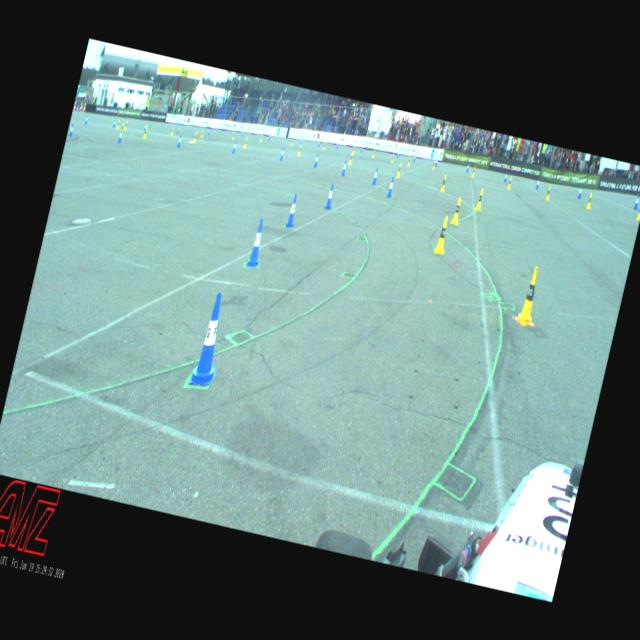blue_cone: (189, 290, 233, 388), (245, 218, 268, 268), (284, 192, 300, 228), (324, 182, 336, 210), (386, 175, 396, 198), (340, 160, 348, 176), (312, 152, 320, 168), (372, 167, 379, 185), (633, 193, 640, 210), (232, 140, 238, 154), (118, 129, 124, 143), (176, 134, 182, 148), (577, 185, 583, 198), (279, 147, 285, 160), (68, 124, 74, 136), (535, 178, 540, 190), (503, 172, 508, 182), (84, 114, 88, 125), (176, 125, 180, 134), (466, 163, 470, 172), (112, 119, 116, 128), (412, 153, 416, 162), (143, 123, 147, 131), (396, 150, 400, 158), (434, 158, 438, 166), (336, 141, 339, 149)
large_orange_cone: (79, 100, 83, 112), (82, 101, 86, 112), (72, 100, 76, 110), (76, 103, 78, 112)
yellow_cone: (514, 264, 546, 327), (433, 215, 451, 254), (450, 197, 463, 224), (474, 188, 485, 210), (584, 192, 594, 210), (440, 174, 448, 192), (544, 186, 552, 200), (396, 162, 402, 178), (296, 144, 302, 157), (506, 177, 512, 190), (470, 165, 476, 178), (192, 131, 198, 143), (636, 202, 640, 220), (348, 152, 353, 165), (143, 125, 148, 138), (119, 122, 124, 134), (243, 137, 248, 148), (406, 156, 411, 166), (124, 120, 128, 130), (116, 119, 120, 129), (432, 160, 436, 170), (372, 148, 376, 158), (200, 129, 204, 138), (322, 141, 326, 150), (390, 153, 394, 162), (232, 132, 236, 140), (170, 127, 173, 136), (352, 145, 354, 154)
